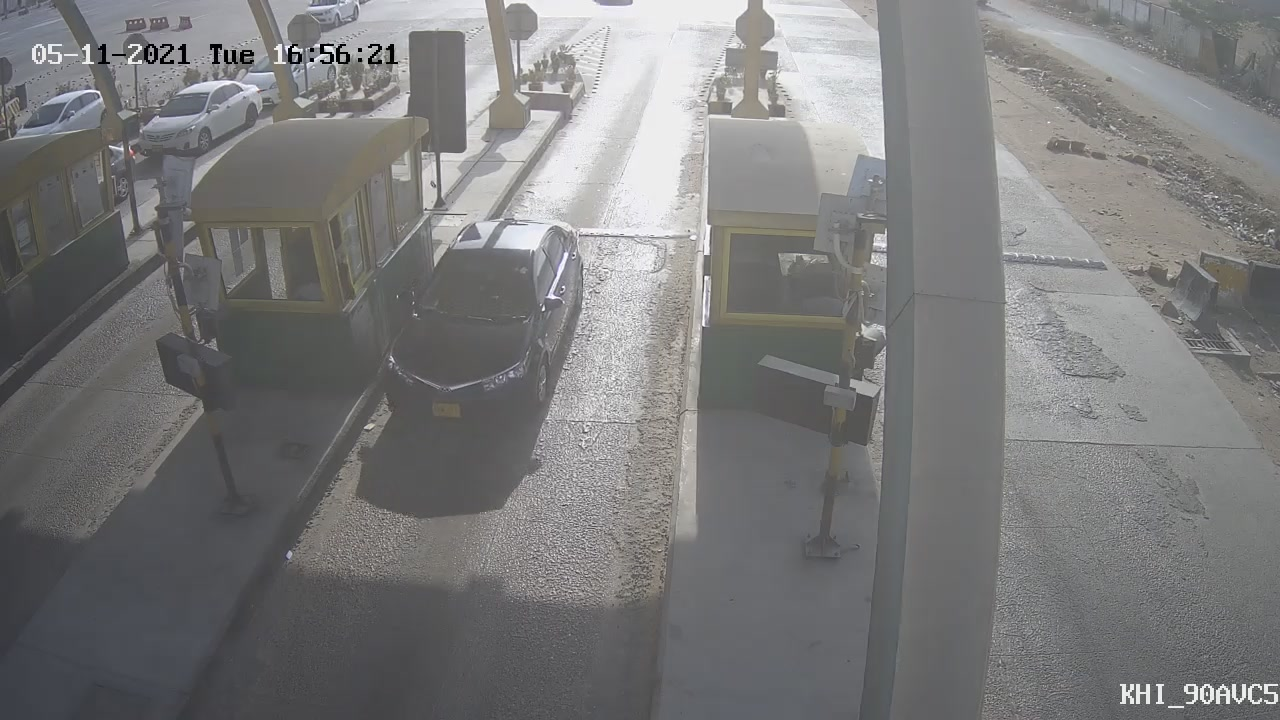F1: (360, 201, 600, 452)
